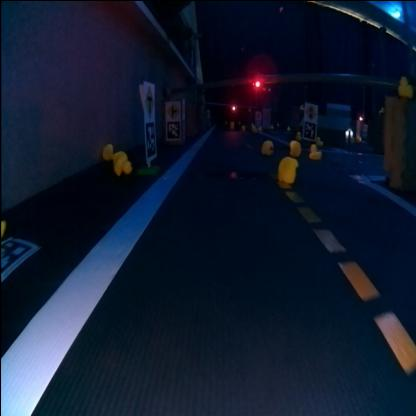Duckie: (277, 154, 298, 181), (116, 153, 132, 175), (398, 76, 412, 94), (102, 142, 114, 158), (309, 143, 321, 159), (288, 139, 300, 153), (262, 140, 274, 152), (294, 129, 302, 137), (316, 134, 324, 142)
Intersection sign: (145, 83, 154, 114), (167, 101, 179, 119)
QR code: (2, 236, 32, 280), (146, 121, 156, 158), (165, 122, 179, 138), (304, 122, 315, 138)
Signal sign: (306, 103, 316, 119)
